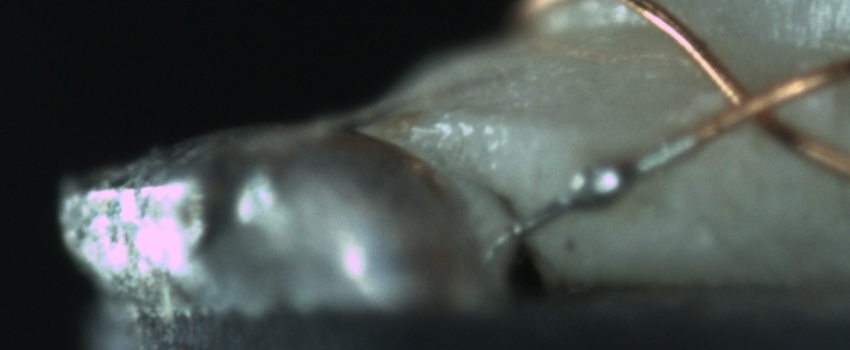CL: (712, 65, 803, 138)
DL: (392, 98, 625, 162)
TB: (560, 152, 635, 217)
TS: (510, 131, 695, 233)
TTCW: (493, 100, 742, 254)
